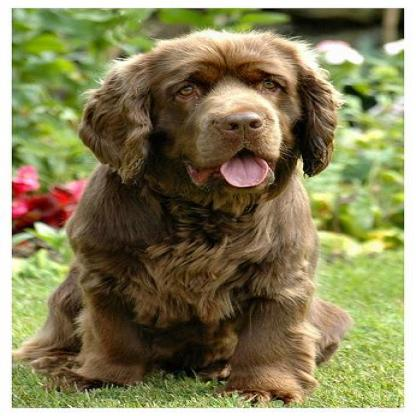Sussex_spaniel: (8, 26, 356, 405)
